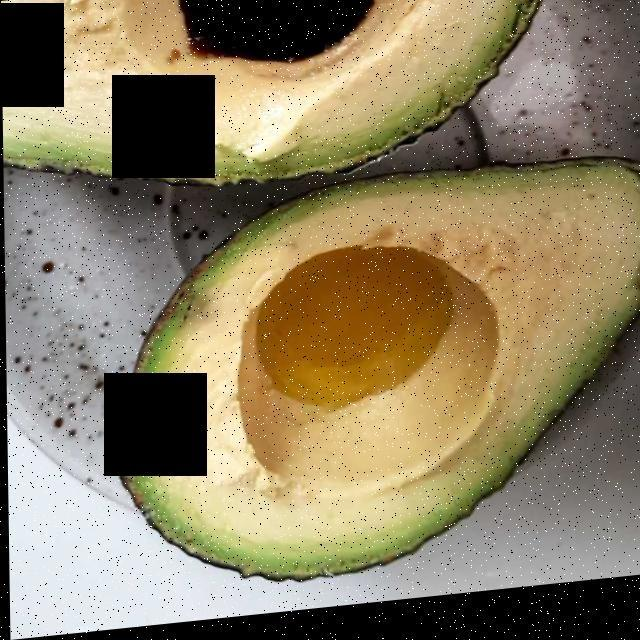avocado: (120, 177, 638, 581), (7, 0, 539, 183)
